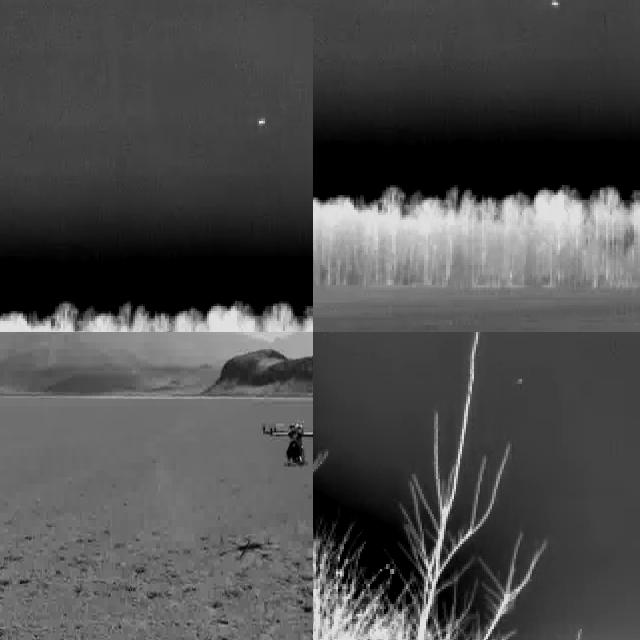0: (510, 373, 536, 393)
1: (247, 106, 283, 144), (544, 0, 576, 23)
drone: (259, 420, 313, 467)
